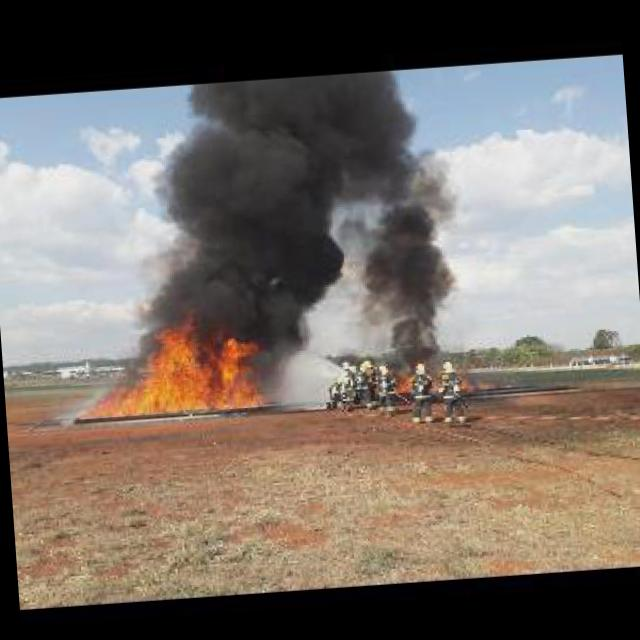fire: (78, 310, 262, 416), (461, 373, 494, 390), (394, 373, 410, 393)
smoke: (122, 78, 368, 332), (347, 152, 464, 370)
